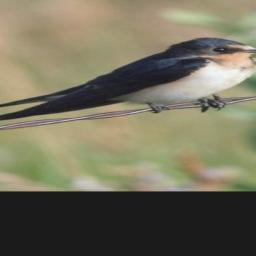Swallow: (0, 35, 256, 126)
